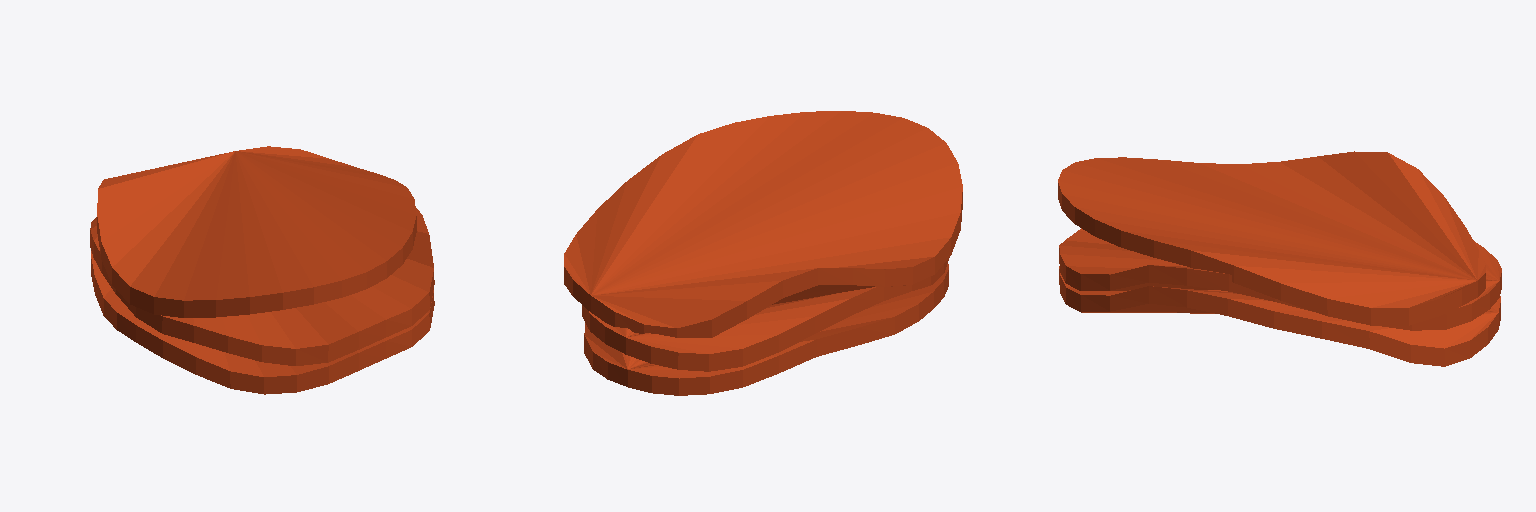
File: pancakes.obj
3 renders of one model, left to right at view 1: azimuth 30°, elevation 25°; view 2: azimuth 150°, elevation 25°; view 3: azimuth 270°, elevation 25°, orthographic.
Parts seen in each view (by area): view 1: Cylinder, Cylinder.001, Cylinder.002; view 2: Cylinder, Cylinder.001, Cylinder.002; view 3: Cylinder, Cylinder.002, Cylinder.001.
Part boxes in pixels (x1,y1,x2,y2): Cylinder: (97, 146, 416, 317); Cylinder.001: (90, 208, 434, 365); Cylinder.002: (91, 251, 434, 394); Cylinder: (564, 111, 962, 337); Cylinder.001: (582, 257, 949, 371); Cylinder.002: (584, 264, 948, 395); Cylinder: (1058, 151, 1485, 325); Cylinder.002: (1059, 266, 1500, 366); Cylinder.001: (1059, 228, 1501, 330).
Size of the model in its own units: 6.9 by 2.84 by 9.05.